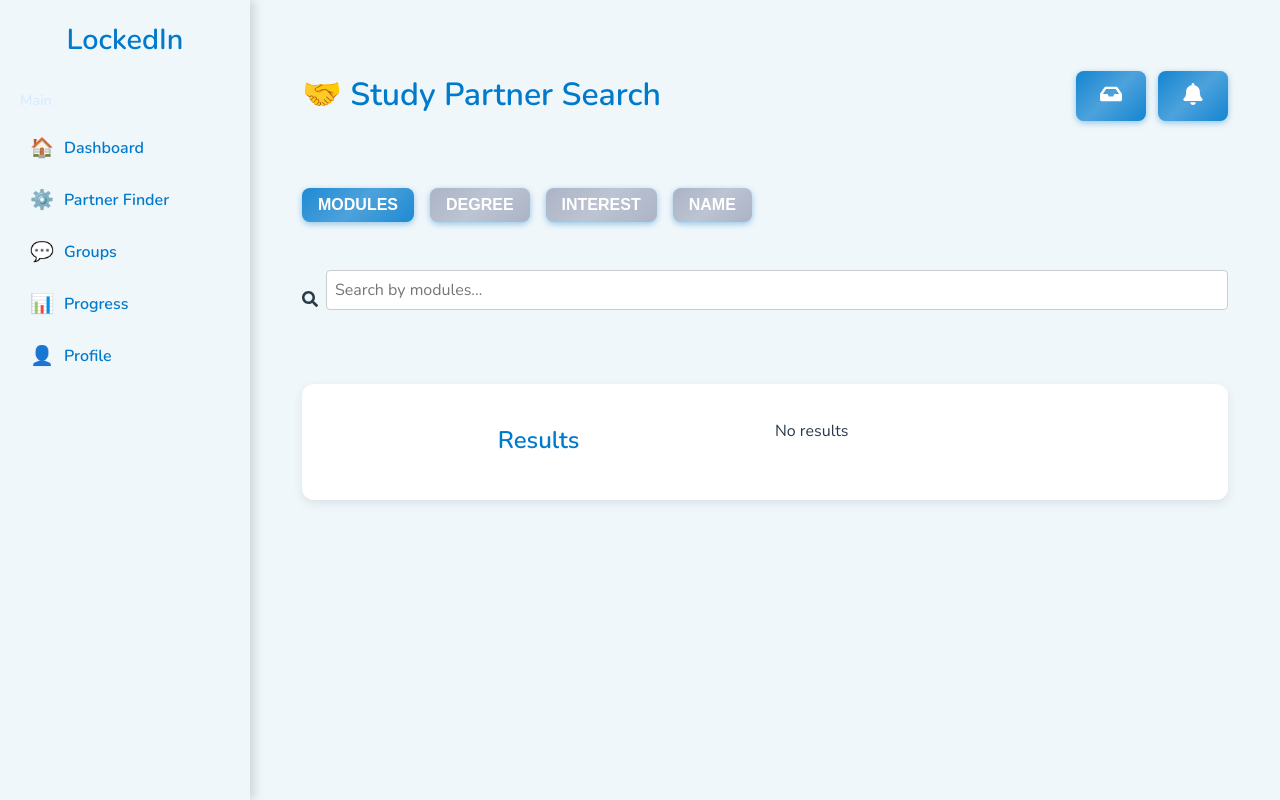
it: SearchPage › performs a search and displays results with invite buttons
Note: Type a search query to trigger the search effect (default searchType "modules")
Type "Math" into the field with placeholder "Search by modules...".
click(777, 290); type("Math")  # box [326, 270, 1228, 310]
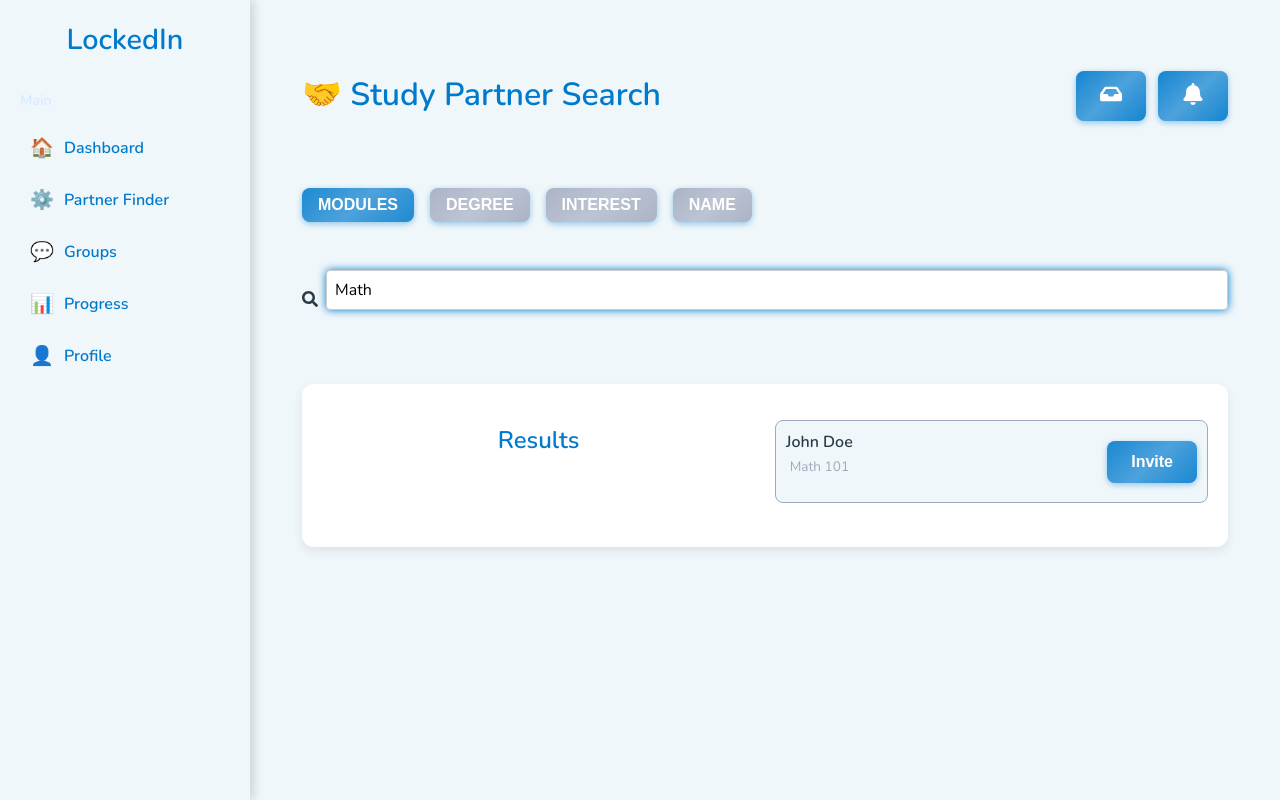
expect the text "John Doe" is shown: met, box [786, 431, 853, 453]
expect the text "Math 101" is shown: met, box [786, 457, 853, 476]
expect the button "Invite" is shown: met, box [1107, 441, 1197, 483]
